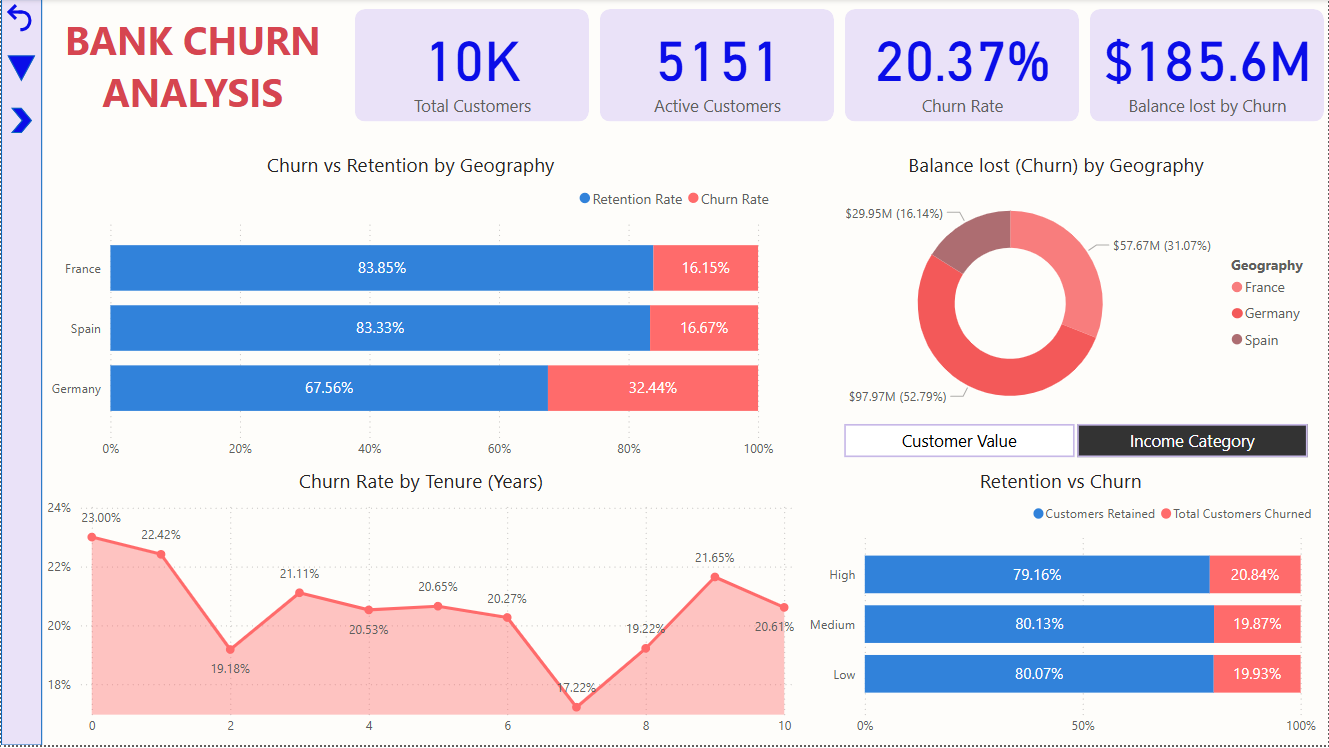

Layout of this report page (visuals, bound fields, positions):
{"tool":"powerbi","page":{"name":"Executive","canvas":[1280,720],"ordinal":0},"visuals":[{"type":"shape","box":[0,0,39.7,720.5],"z":0},{"type":"group","id":"g1","title":"Group 2","box":[341.2,9.7,225.6,108.6],"z":0,"group":"g5"},{"type":"shape","box":[341.2,9.7,226.1,108.7],"z":0,"group":"g1"},{"type":"shape","box":[577.7,9.7,226.1,108.7],"z":0,"group":"g2"},{"type":"shape","box":[814.1,9.7,226.1,108.7],"z":0,"group":"g3"},{"type":"shape","box":[1050.6,9.7,226.1,108.7],"z":0,"group":"g4"},{"type":"group","id":"g2","title":"Group 2","box":[577.7,9.7,225.6,108.6],"z":1000,"group":"g5"},{"type":"card","fields":{"Values":["Measure Table.Total Customers"]},"box":[343.4,10.2,222.8,108.7],"z":1000,"group":"g1"},{"type":"card","fields":{"Values":["Measure Table.Active Customers"]},"box":[579.9,10.2,222.8,108.7],"z":1000,"group":"g2"},{"type":"card","fields":{"Values":["Measure Table.Churn Rate"]},"box":[816.3,10.2,222.8,108.7],"z":1000,"group":"g3"},{"type":"card","fields":{"Values":["Measure Table.Balance lost (Churn)"]},"box":[1052.8,10.2,222.8,108.7],"z":1000,"group":"g4"},{"type":"areaChart","title":"Churn Rate by Tenure (Years)","fields":{"Category":["Bank_Churn.Tenure"],"Y":["Measure Table.Churn Rate"]},"box":[40,452.5,731.2,267.5],"z":1000},{"type":"group","id":"g3","title":"Group 2","box":[814.1,9.7,225.6,108.6],"z":2000,"group":"g5"},{"type":"barChart","title":"Churn vs Retention by Geography","fields":{"Category":["Bank_Churn.Geography"],"Y":["Measure Table.Retention Rate","Measure Table.Churn Rate"]},"box":[40,147.5,711.2,305],"z":2000},{"type":"group","id":"g4","title":"Group 2","box":[1050.6,9.7,225.6,108.6],"z":3000,"group":"g5"},{"type":"hundredPercentStackedBarChart","title":"Retention vs Churn","fields":{"Category":["Bank_Churn.Income Category"],"Y":["Measure Table.Customers Retained","Measure Table.Total Customers Churned"]},"box":[771.2,452.5,503.8,267.5],"z":3000},{"type":"slicer","fields":{"Values":["Churn Metrics.Churn Metrics"]},"box":[791.4,407.8,488.6,36.2],"z":4000},{"type":"textbox","box":[0,10,370,111.7],"z":5000},{"type":"group","id":"g5","title":"Group 1","box":[341.2,9.7,935,108.6],"z":6000},{"type":"actionButton","box":[0,0,87.8,35.7],"z":7000},{"type":"shape","box":[10.2,105.1,20.4,24.5],"z":8000},{"type":"shape","box":[6.1,54.1,27.6,25.5],"z":10000},{"type":"donutChart","fields":{"Y":["Measure Table.Balance lost (Churn)"],"Category":["Bank_Churn.Geography"]},"box":[756.2,147.5,523.8,268.8],"z":12000}]}

Visuals, with their boxes on the page's 1280x720 design canvas (x1, y1, x2, y2). These are canvas units, not pixel positions in the 1329x748 screenshot, which may show the page scaled, cropped or inside an application window:
shape: pyautogui.locateOnScreen(0, 0, 40, 720)
"Group 2" group: pyautogui.locateOnScreen(341, 10, 567, 118)
shape: pyautogui.locateOnScreen(341, 10, 567, 118)
shape: pyautogui.locateOnScreen(578, 10, 804, 118)
shape: pyautogui.locateOnScreen(814, 10, 1040, 118)
shape: pyautogui.locateOnScreen(1051, 10, 1277, 118)
"Group 2" group: pyautogui.locateOnScreen(578, 10, 803, 118)
card - Measure Table.Total Customers: pyautogui.locateOnScreen(343, 10, 566, 119)
card - Measure Table.Active Customers: pyautogui.locateOnScreen(580, 10, 803, 119)
card - Measure Table.Churn Rate: pyautogui.locateOnScreen(816, 10, 1039, 119)
card - Measure Table.Balance lost (Churn): pyautogui.locateOnScreen(1053, 10, 1276, 119)
"Churn Rate by Tenure (Years)" areaChart: pyautogui.locateOnScreen(40, 452, 771, 720)
"Group 2" group: pyautogui.locateOnScreen(814, 10, 1040, 118)
"Churn vs Retention by Geography" barChart: pyautogui.locateOnScreen(40, 148, 751, 452)
"Group 2" group: pyautogui.locateOnScreen(1051, 10, 1276, 118)
"Retention vs Churn" hundredPercentStackedBarChart: pyautogui.locateOnScreen(771, 452, 1275, 720)
slicer - Churn Metrics.Churn Metrics: pyautogui.locateOnScreen(791, 408, 1280, 444)
textbox: pyautogui.locateOnScreen(0, 10, 370, 122)
"Group 1" group: pyautogui.locateOnScreen(341, 10, 1276, 118)
actionButton: pyautogui.locateOnScreen(0, 0, 88, 36)
shape: pyautogui.locateOnScreen(10, 105, 31, 130)
shape: pyautogui.locateOnScreen(6, 54, 34, 80)
donutChart - Measure Table.Balance lost (Churn) x Bank_Churn.Geography: pyautogui.locateOnScreen(756, 148, 1280, 416)
